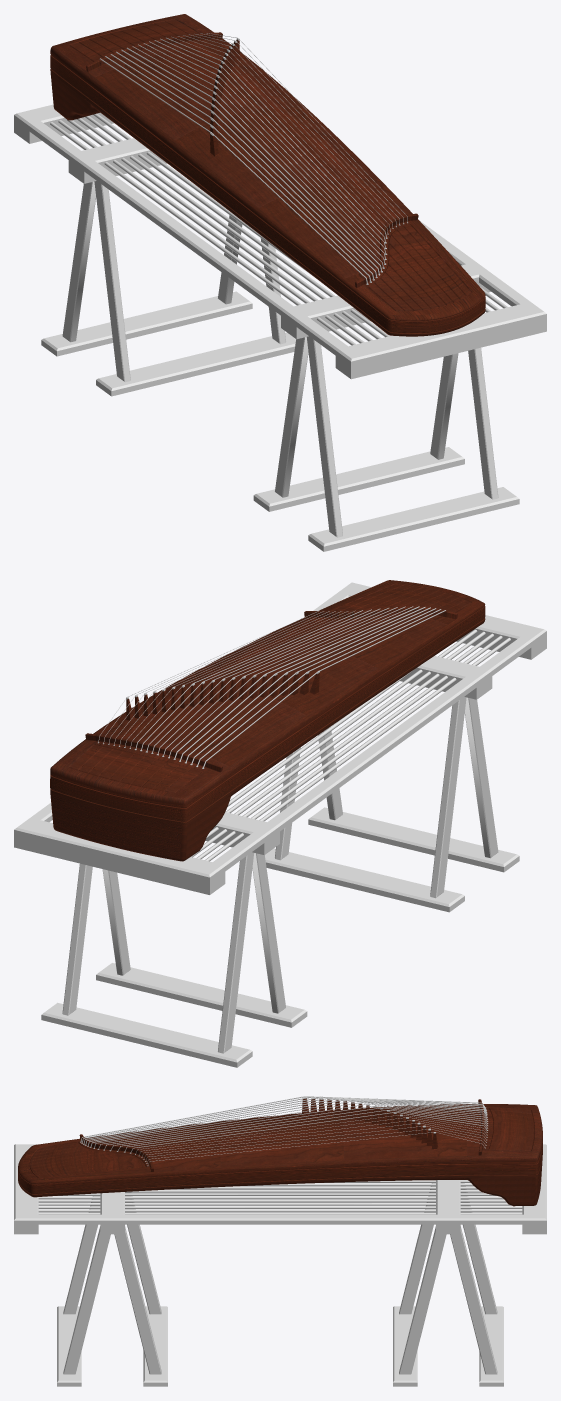
Rendered from Newzheng.fbx.
3 views of the same model, one above another, from view 1: azimuth 30°, elevation 25°; view 2: azimuth 150°, elevation 25°; view 3: azimuth 270°, elevation 25° (orthographic). The views are drawn at different scales.
Parts seen in each view (by area): view 1: Rectangle02, www.cadnav.com, Shape01; view 2: Rectangle02, www.cadnav.com, Shape01; view 3: Rectangle02, www.cadnav.com, Shape01.
Boxes of the visible parts, <box> form: Rectangle02: <box>14,104,546,551</box>; www.cadnav.com: <box>50,14,485,336</box>; Shape01: <box>99,33,407,284</box>; Rectangle02: <box>14,582,546,1067</box>; www.cadnav.com: <box>50,580,485,861</box>; Shape01: <box>99,606,445,762</box>; Rectangle02: <box>14,1144,546,1386</box>; www.cadnav.com: <box>18,1096,542,1206</box>; Shape01: <box>80,1096,484,1165</box>.
Size of the model in its own units: 58 by 86.81 by 173.
4 materials, 1 textured.
